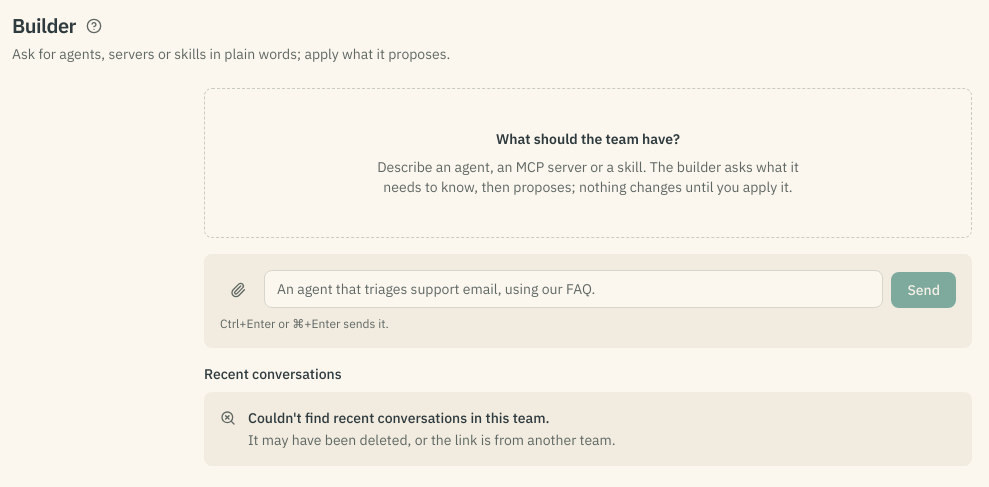
asking the builder › names the team's model when the builder has none, with the way to settings
In the text box: (574, 289) [264, 270, 883, 308], type "An agent."
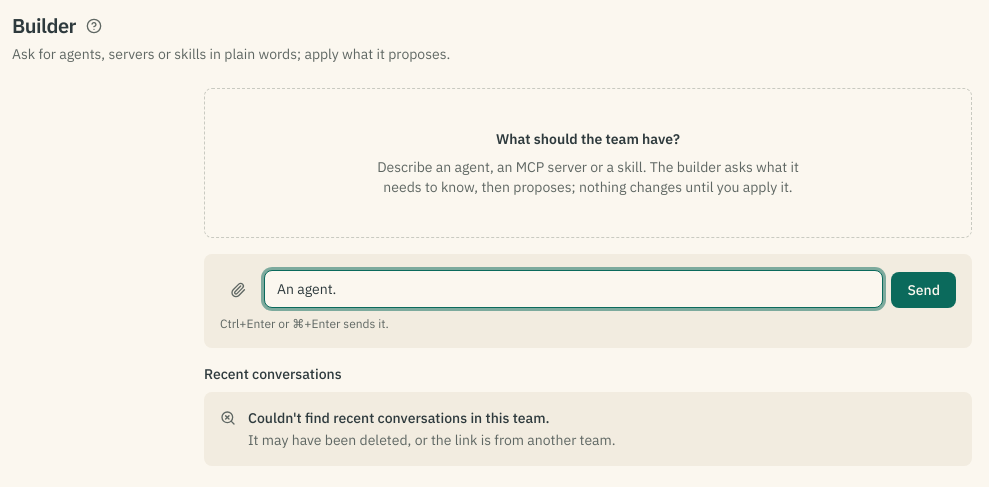
Click the button "Send": click(924, 290) [891, 272, 956, 308]
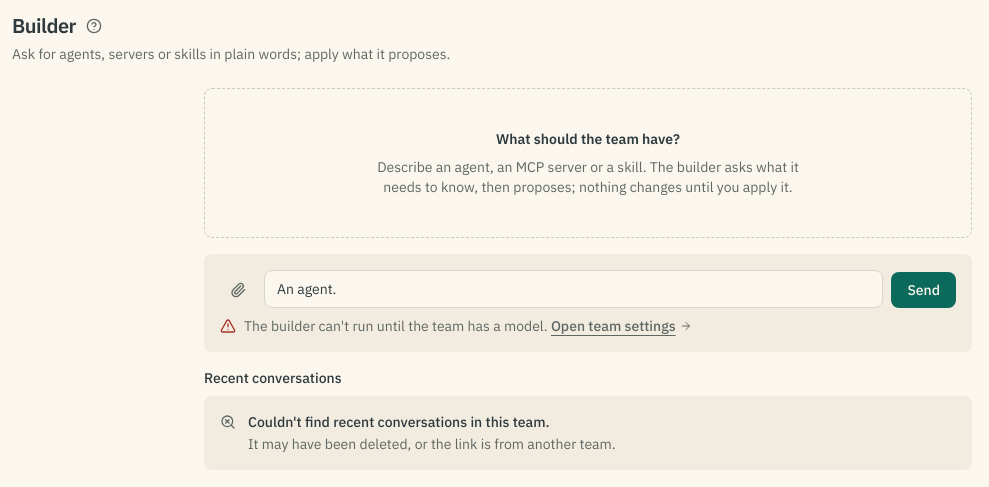
Result: the text "The builder can't run until the team has a model." is shown at [244, 317, 548, 335]
Result: the link "Open team settings" is shown at [551, 316, 692, 336]
